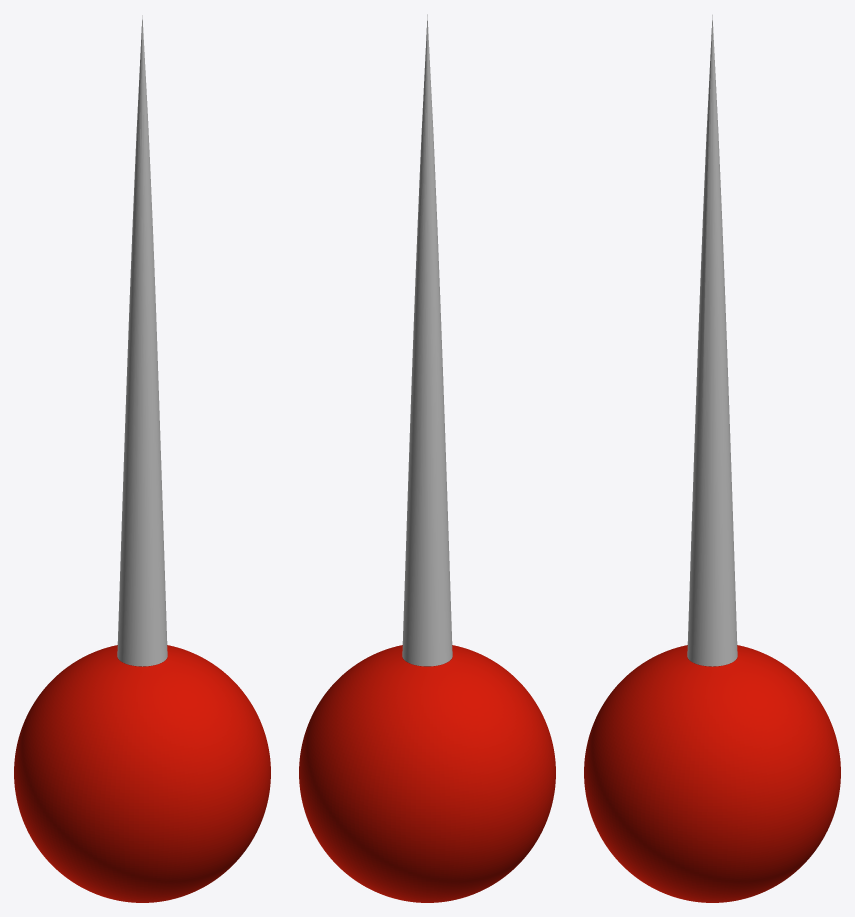
File: red push pin.fbx
3 renders of one model, left to right at view 1: azimuth 30°, elevation 25°; view 2: azimuth 150°, elevation 25°; view 3: azimuth 270°, elevation 25°, orthographic.
Visible parts, largest first — view 1: Sphere, Cone; view 2: Sphere, Cone; view 3: Sphere, Cone.
Part boxes in pixels (bbox=[...]): Sphere: bbox=[14, 645, 270, 902]; Cone: bbox=[117, 15, 167, 666]; Sphere: bbox=[299, 645, 555, 902]; Cone: bbox=[402, 14, 452, 666]; Sphere: bbox=[584, 645, 840, 902]; Cone: bbox=[687, 15, 737, 666].
Bounding box in the file's own units: 196 × 737 × 196.
